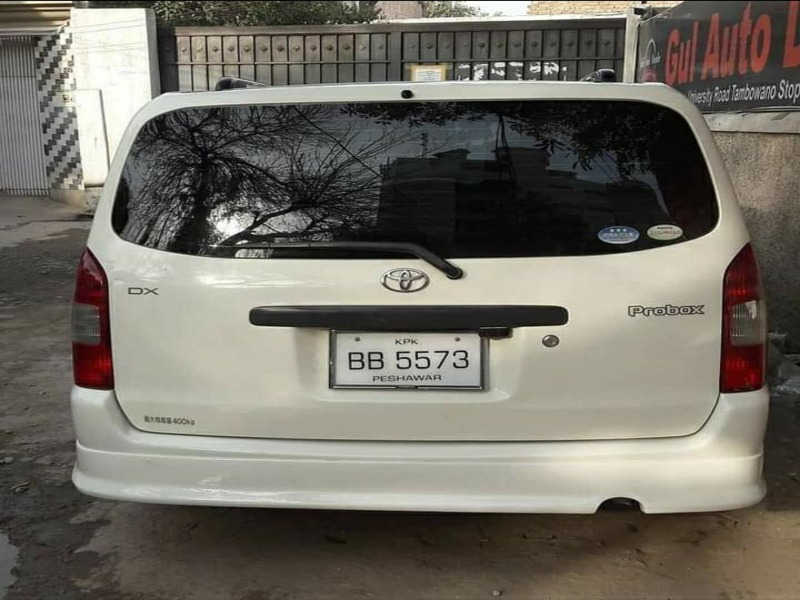License Plate: (325, 328, 492, 396)
